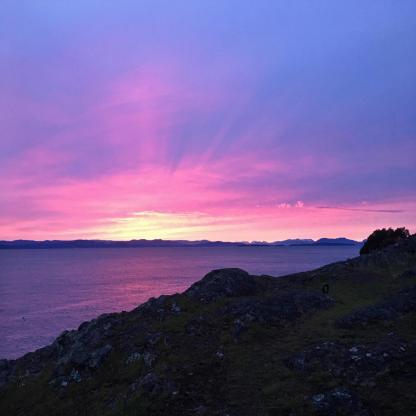other: (68, 198, 228, 253)
